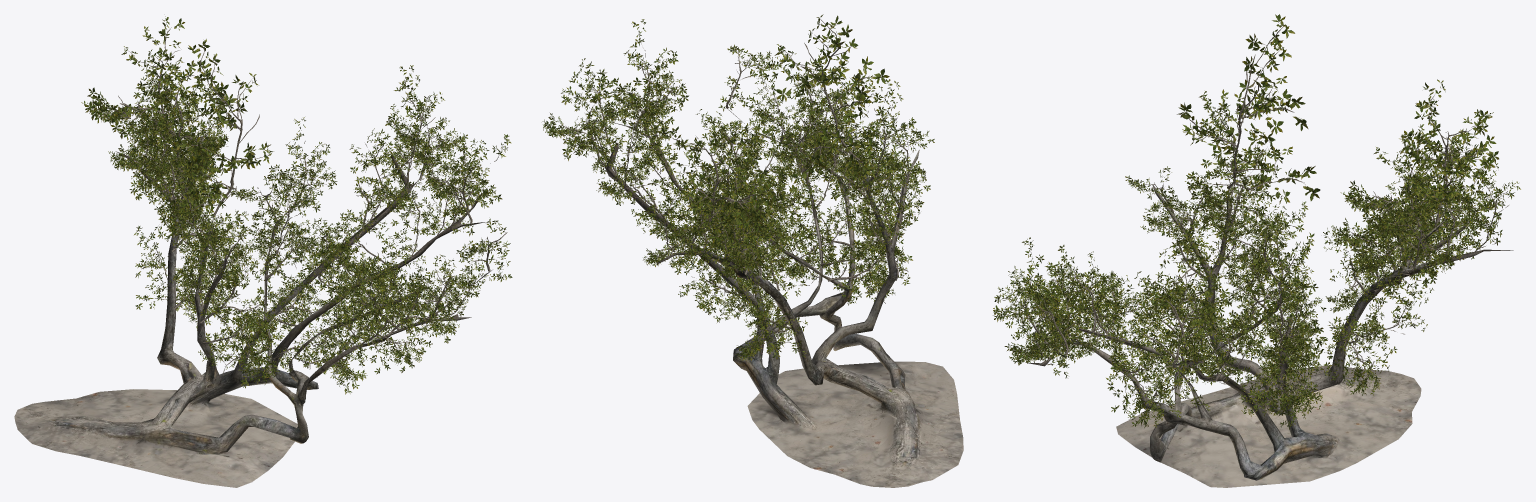
Rendered from village-pbr-island_tree_03.glb.
The picture shows the model from 3 angles, left to right: view 1: azimuth 30°, elevation 25°; view 2: azimuth 150°, elevation 25°; view 3: azimuth 270°, elevation 25°; orthographic projection. The views are drawn at different scales.
Visible parts, largest first — view 1: island_tree_03_LOD0; view 2: island_tree_03_LOD0; view 3: island_tree_03_LOD0.
Part boxes in pixels (x1,y1,x2,y2): island_tree_03_LOD0: [14, 16, 512, 487]; island_tree_03_LOD0: [542, 14, 963, 487]; island_tree_03_LOD0: [993, 14, 1520, 487].
Bounding box in the file's own units: 2.96 × 2.61 × 2.91.
Materials: 3 (3 with a texture image).
